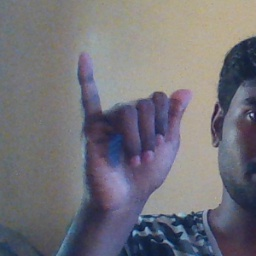J: (69, 53, 195, 201)
